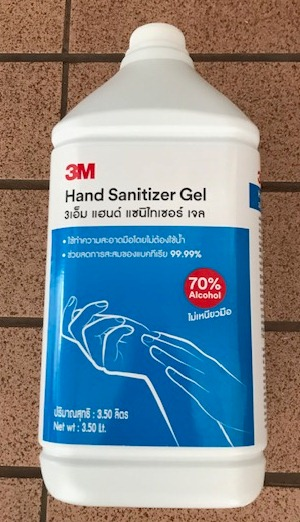Cleaning_solution: (37, 14, 270, 513)
